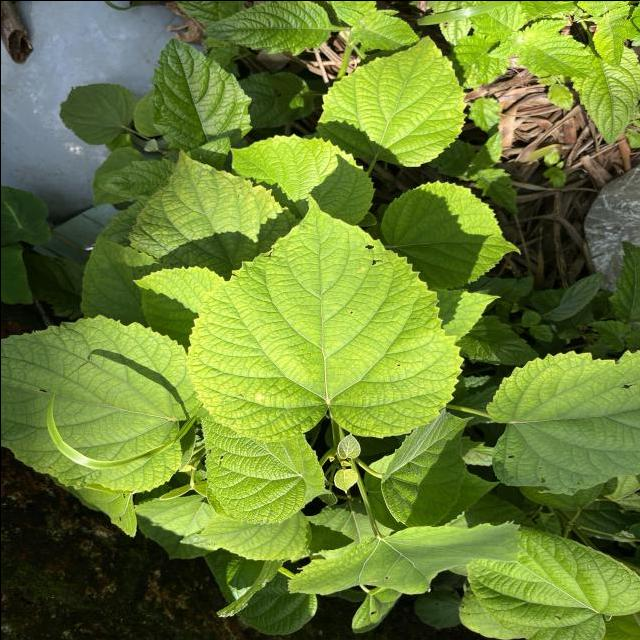Clerodendrum infortunatum: (183, 189, 465, 442), (0, 310, 196, 493), (485, 345, 640, 497), (464, 515, 640, 640), (315, 34, 468, 168), (126, 148, 293, 269), (378, 178, 521, 290), (224, 133, 375, 226)
